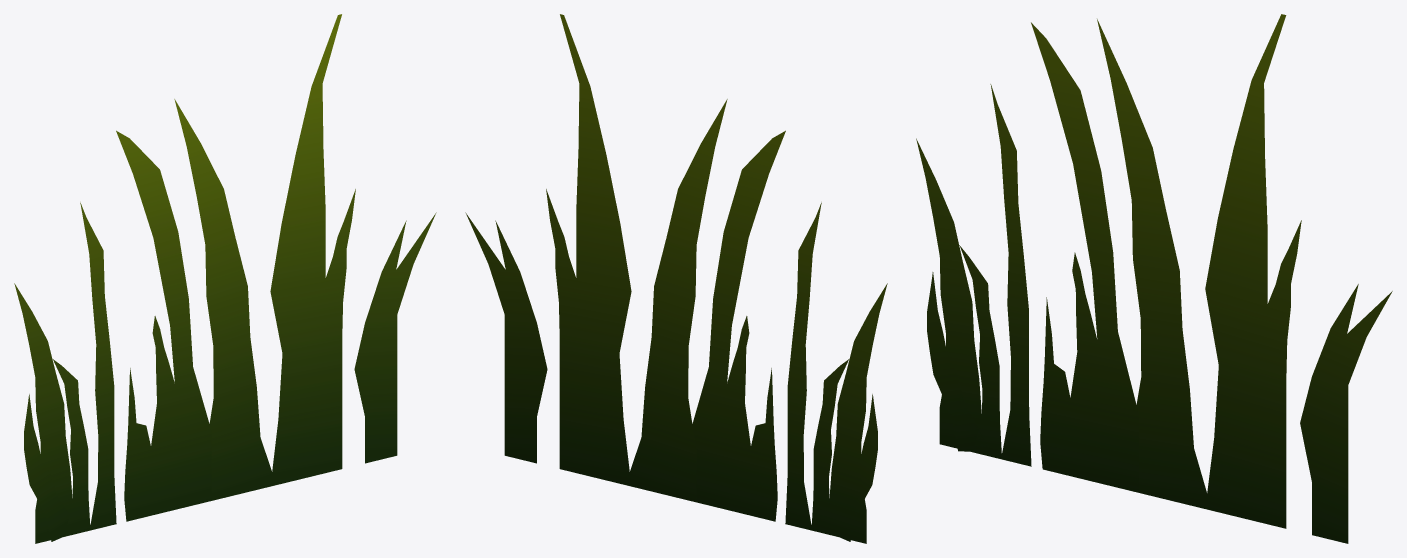
The model's file is alga2.fbx.
The picture shows the model from 3 angles, left to right: view 1: azimuth 30°, elevation 25°; view 2: azimuth 150°, elevation 25°; view 3: azimuth 330°, elevation 25°; orthographic projection. The views are drawn at different scales.
Visible parts, largest first — view 1: alga-2; view 2: alga-2; view 3: alga-2.
Boxes of the visible parts, bbox=[...] form: alga-2: bbox=[14, 14, 436, 543]; alga-2: bbox=[465, 14, 887, 543]; alga-2: bbox=[916, 14, 1392, 543].
Bounding box in the file's own units: 7.71 × 7.97 × 1.57e-06.
1 material, 1 textured.
